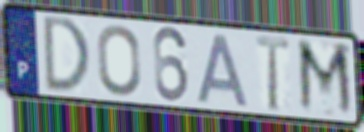6: (151, 25, 191, 106)
A: (195, 32, 253, 110)
D: (42, 13, 93, 94)
M: (295, 36, 357, 120)
O: (95, 23, 143, 98)
T: (253, 33, 292, 114)
